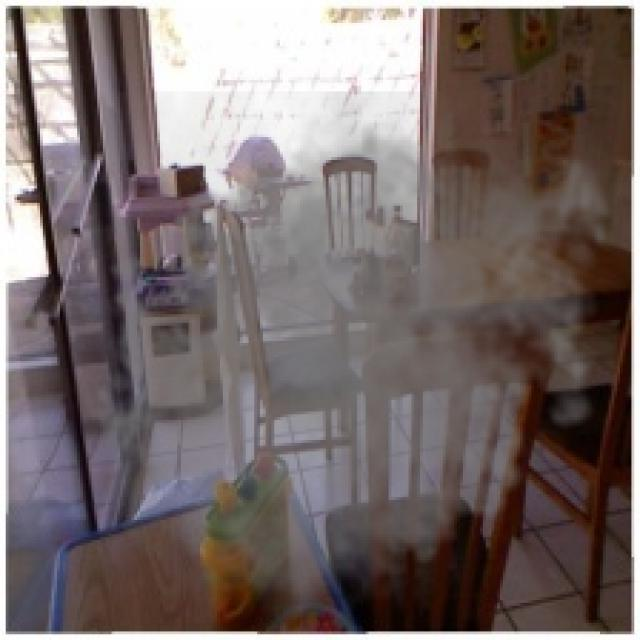smoke: (83, 92, 631, 637)
